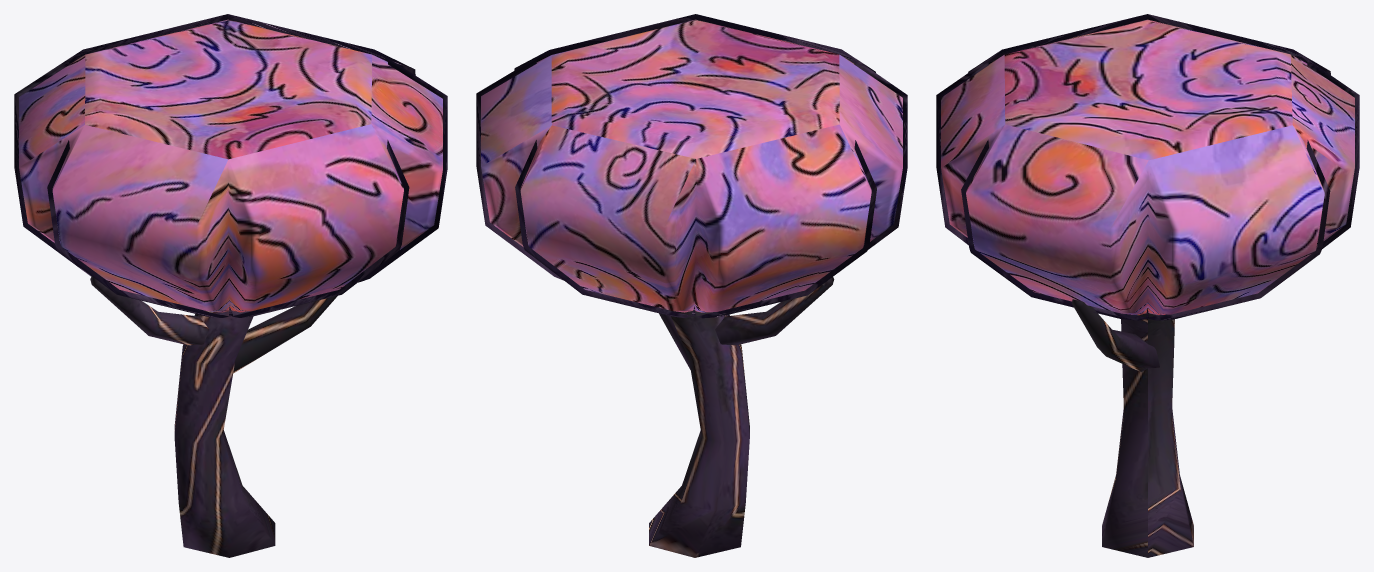
File: tree-03-art.glb
The picture shows the model from 3 angles, left to right: view 1: azimuth 30°, elevation 25°; view 2: azimuth 150°, elevation 25°; view 3: azimuth 270°, elevation 25°; orthographic projection.
Parts seen in each view (by area): view 1: Tree_03_Art; view 2: Tree_03_Art; view 3: Tree_03_Art.
Boxes of the visible parts, x1=… form: Tree_03_Art: x1=14, y1=14, x2=447, y2=557; Tree_03_Art: x1=476, y1=14, x2=907, y2=557; Tree_03_Art: x1=936, y1=14, x2=1359, y2=557.
Size of what is drawn, in the model's own units: 2.52 by 2.76 by 2.31.
3 materials, 3 textured.
